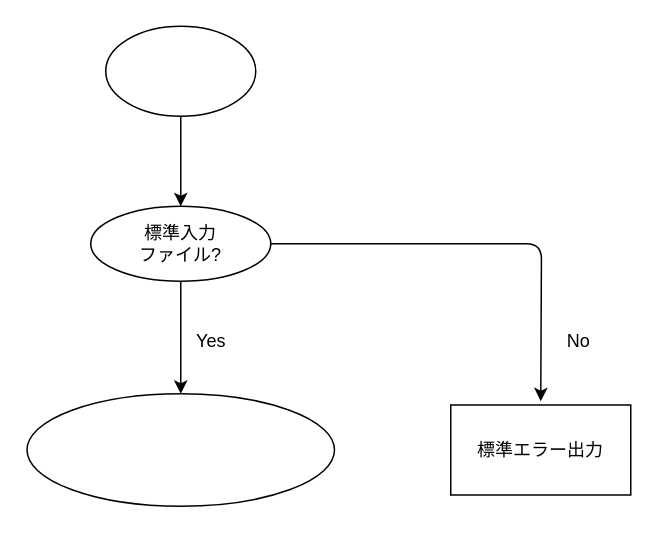
Image size: 657x533. Some labels were removed from this diagram. Each missing label, with the box of its shape:
wc実行: (104, 25, 256, 116)
標準出力 行数 単語数 バイト数 ファイル名: (26, 392, 334, 506)
